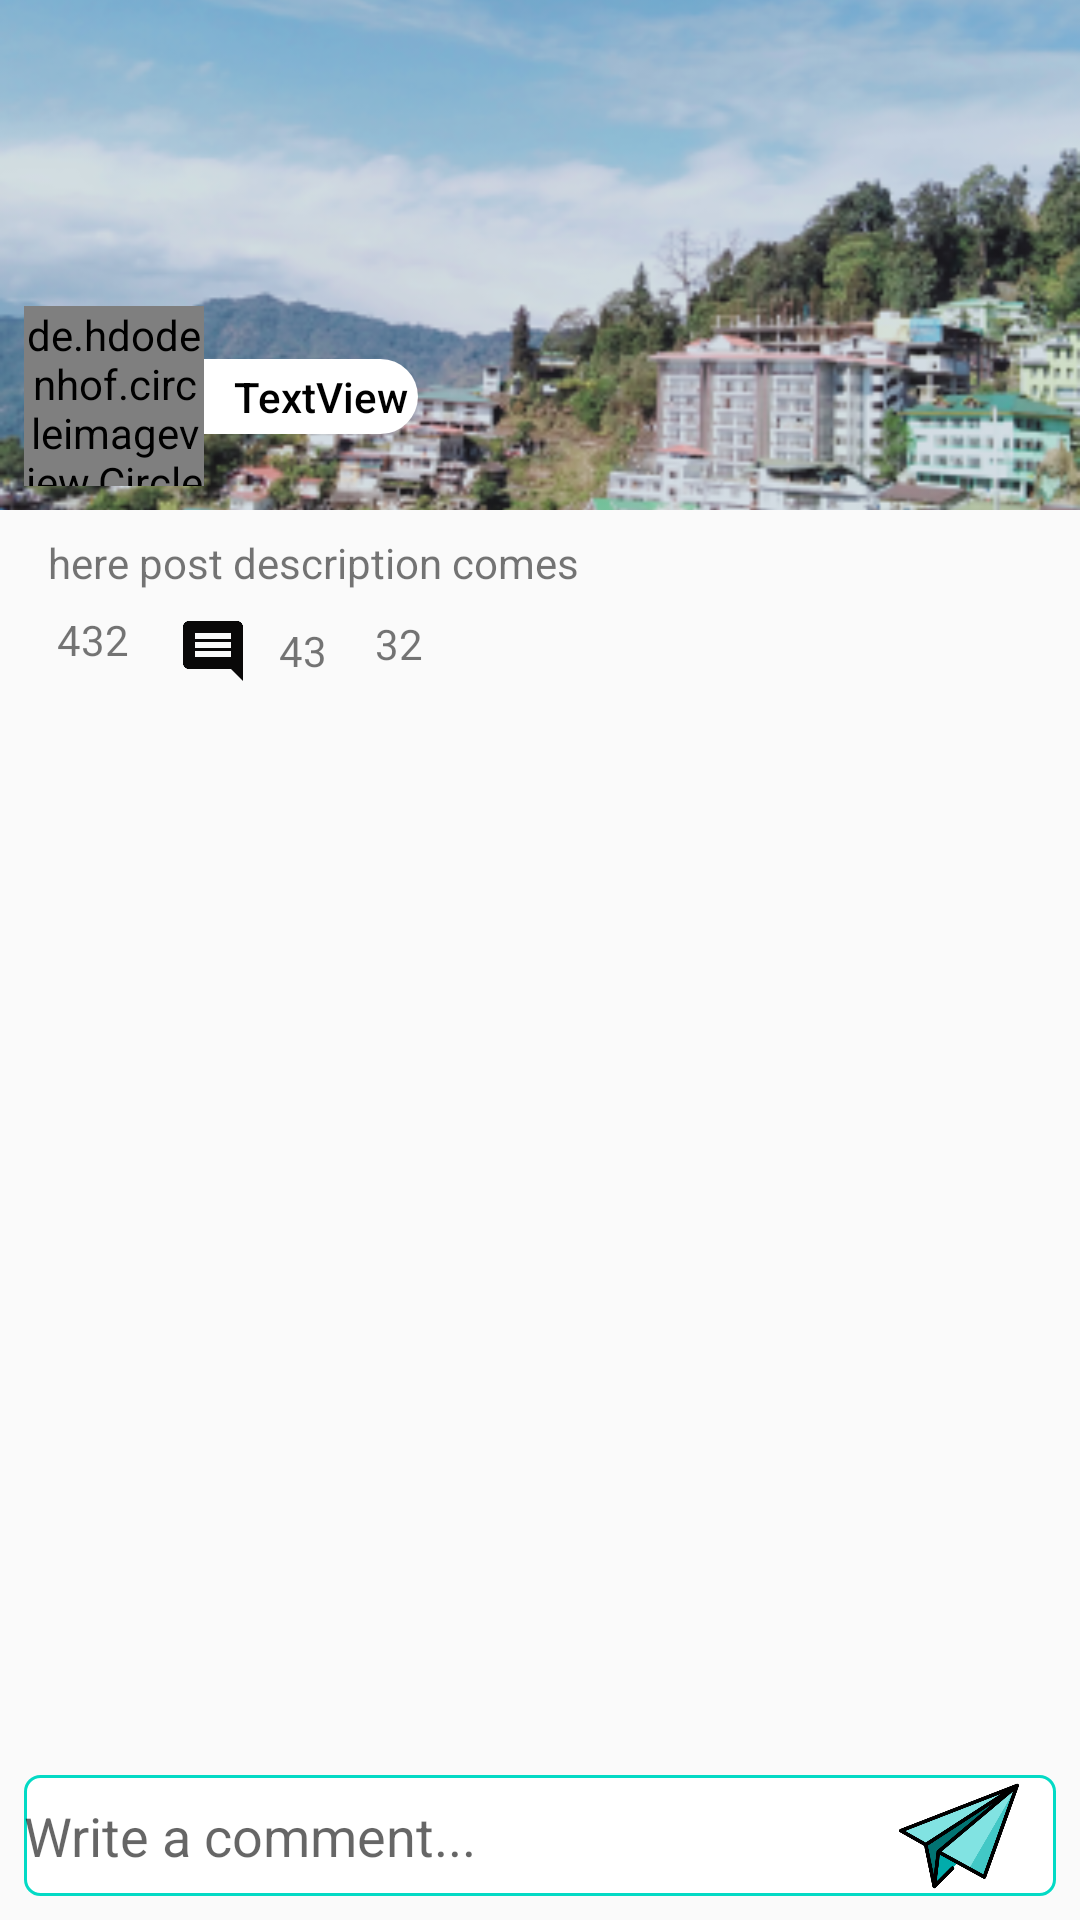

Icons on this 1080*1920 Android screen, each with the point to tap as (x,y):
sendbutton: (959,1836)
